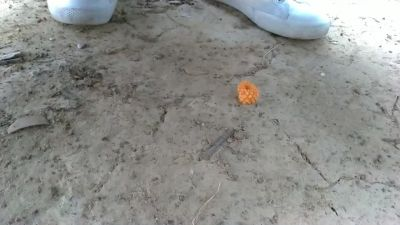eggs: (235, 77, 264, 108)
